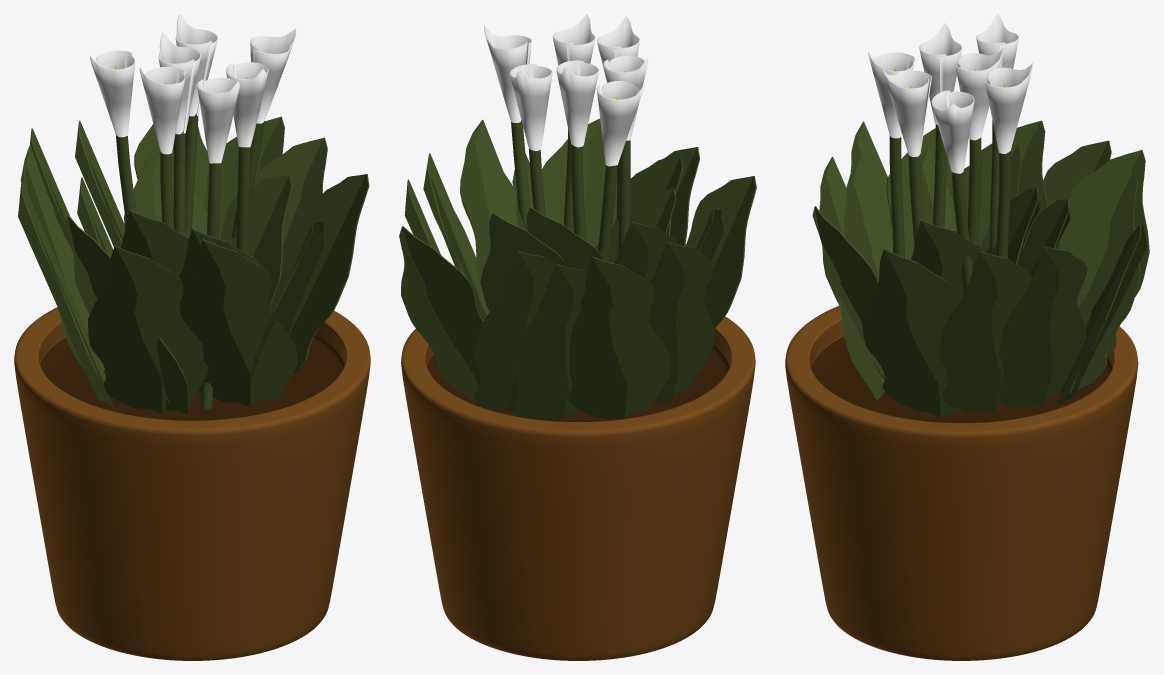
The model's file is zantedeschia_anneke.fbx.
3 renders of one model, left to right at view 1: azimuth 30°, elevation 25°; view 2: azimuth 150°, elevation 25°; view 3: azimuth 270°, elevation 25°, orthographic.
Visible parts, largest first — view 1: Plane.017; view 2: Plane.017; view 3: Plane.017.
Boxes of the visible parts, x1,y1,x2,y2 form: Plane.017: (14, 14, 370, 660); Plane.017: (399, 14, 756, 660); Plane.017: (785, 14, 1149, 660).
Bounding box in the file's own units: 106 × 184 × 110.
